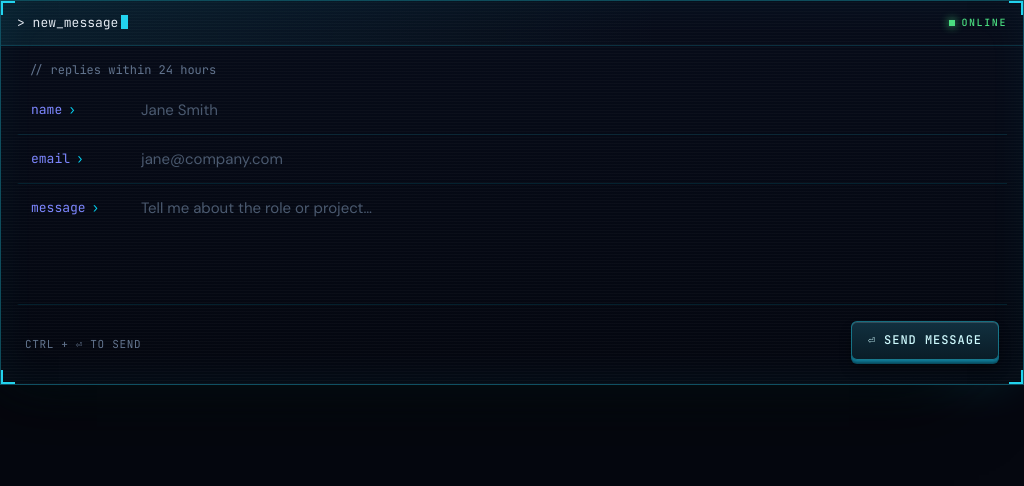
Test: TerminalForm › flags empty fields without sending
Click the button "⏎ Send message": x=925, y=340 [851, 320, 999, 360]
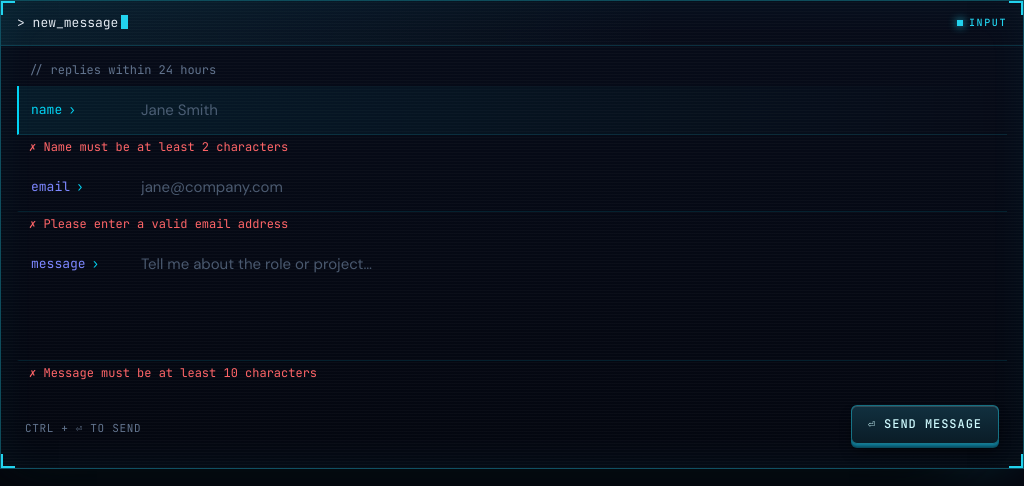
Now the messages read "✗ Name must be at least 2 characters", "✗ Please enter a valid email address", "✗ Message must be at least 10 characters", in this order, box [29, 138, 288, 154]; [29, 216, 288, 232]; [29, 364, 317, 380]
